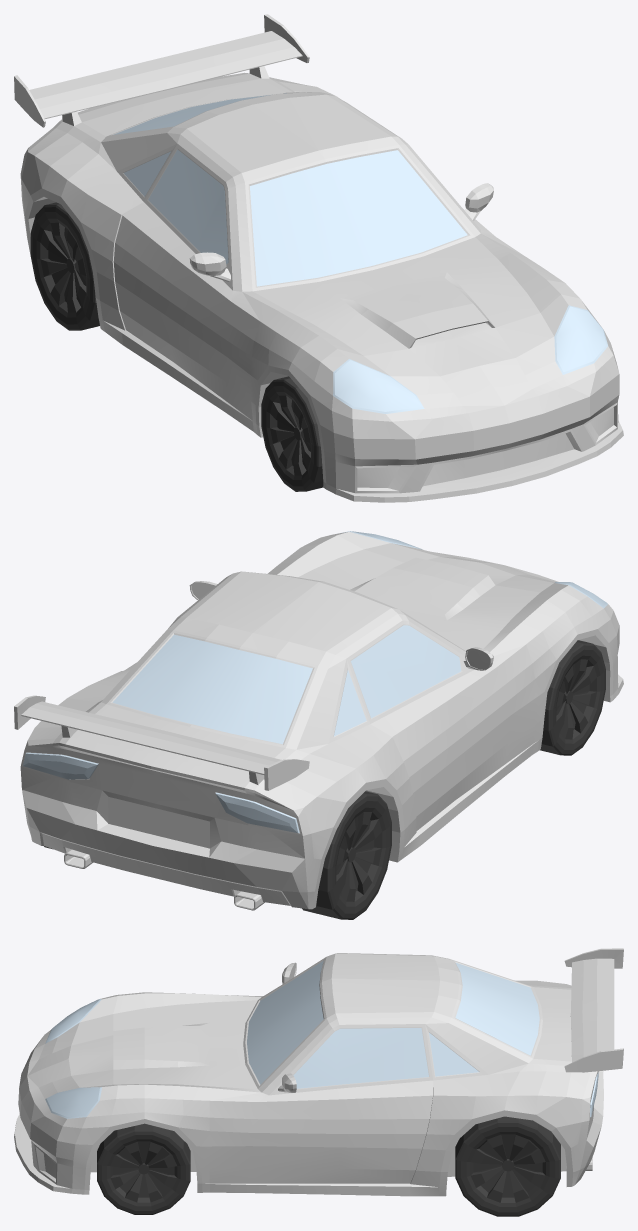
Rendered from CarModelForCompetition.glb.
3 views of the same model, one above another, from view 1: azimuth 30°, elevation 25°; view 2: azimuth 150°, elevation 25°; view 3: azimuth 270°, elevation 25° (orthographic). The views are drawn at different scales.
Parts seen in each view (by area): view 1: Car.001, Glass_Plane.001, WheelRR_Circle.001, WheelFR_Circle.001; view 2: Car.001, Glass_Plane.001, WheelRR_Circle.001, WheelFR_Circle.001; view 3: Car.001, Glass_Plane.001, WheelRL_Circle.001, WheelFL_Circle.002.
Part boxes in pixels (x1,y1,x2,y2): Car.001: (14, 14, 623, 502); Glass_Plane.001: (113, 93, 607, 413); WheelRR_Circle.001: (30, 202, 99, 330); WheelFR_Circle.001: (261, 376, 323, 491); Car.001: (14, 531, 623, 910); Glass_Plane.001: (23, 531, 607, 833); WheelRR_Circle.001: (302, 791, 391, 919); WheelFR_Circle.001: (540, 640, 605, 755); Car.001: (14, 948, 623, 1196); Glass_Plane.001: (45, 961, 598, 1118); WheelRL_Circle.001: (455, 1116, 560, 1216); WheelFL_Circle.002: (97, 1123, 190, 1214).
Bounding box in the file's own units: 0.9938 × 0.6787 × 2.1.
